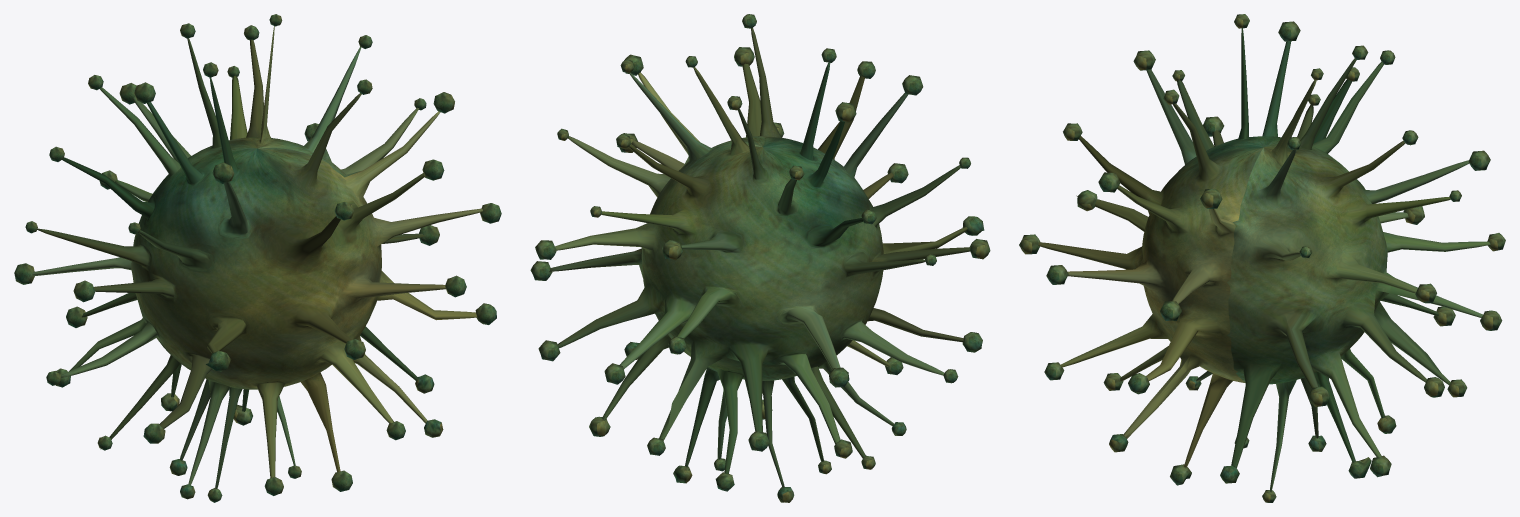
The model's file is VirusEinzeln.fbx.
3 views of the same model, side by side, from view 1: azimuth 30°, elevation 25°; view 2: azimuth 150°, elevation 25°; view 3: azimuth 270°, elevation 25° (orthographic). The views are drawn at different scales.
Parts seen in each view (by area): view 1: polySurface57; view 2: polySurface57; view 3: polySurface57.
Part boxes in pixels (left/top/right/bottom): polySurface57: left=14, top=14, right=501, bottom=502; polySurface57: left=530, top=14, right=990, bottom=502; polySurface57: left=1019, top=14, right=1505, bottom=502.
Bounding box in the file's own units: 3.12 × 3.21 × 3.21.
1 material, 1 textured.
